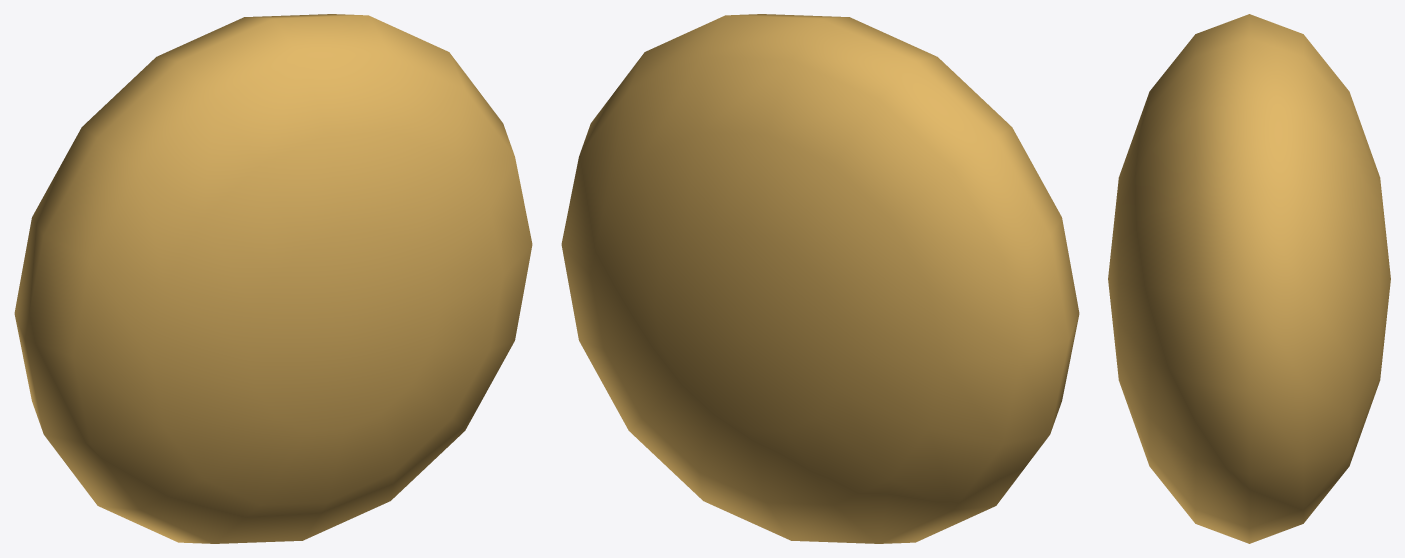
File: stud-parameter-variant.glb
3 renders of one model, left to right at view 1: azimuth 30°, elevation 25°; view 2: azimuth 150°, elevation 25°; view 3: azimuth 270°, elevation 25°, orthographic. The views are drawn at different scales.
Parts seen in each view (by area): view 1: compact-gold-stud-v1; view 2: compact-gold-stud-v1; view 3: compact-gold-stud-v1.
Part boxes in pixels (x1,y1,x2,y2): compact-gold-stud-v1: (14,14,532,543); compact-gold-stud-v1: (561,14,1079,543); compact-gold-stud-v1: (1108,14,1390,543).
Bounding box in the file's own units: 0.006 × 0.006 × 0.0032.
